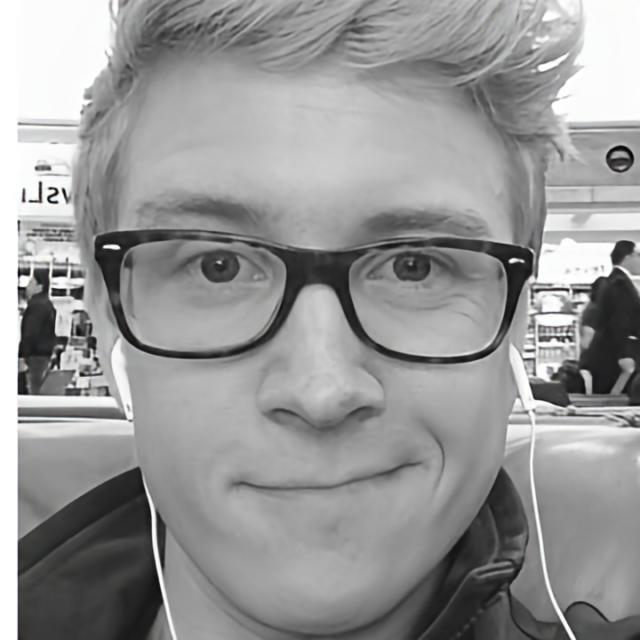content: (122, 88, 510, 628)
